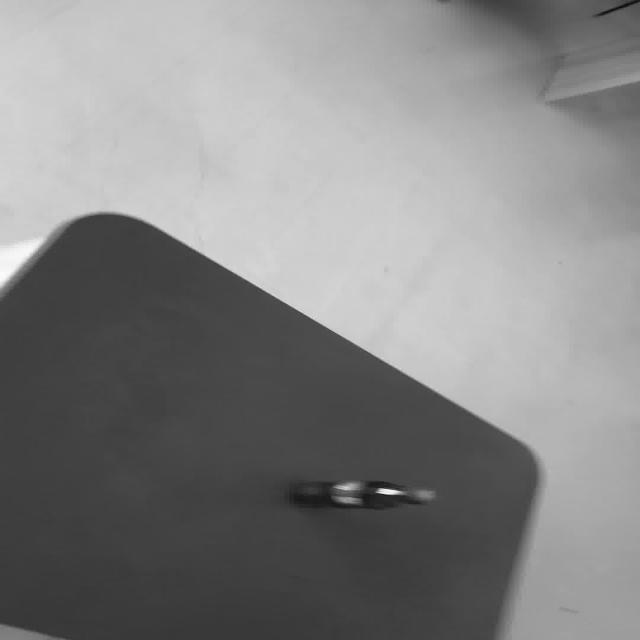guarana: (1, 211, 544, 638), (288, 479, 436, 509)
